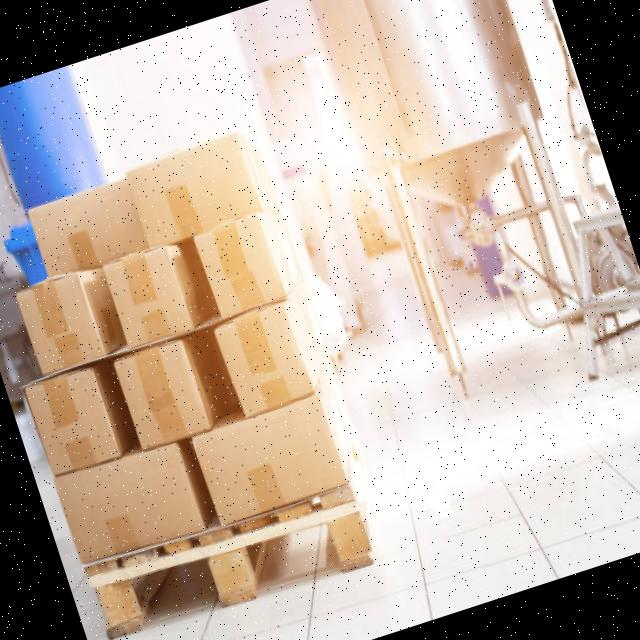Wooden-Pallets: (81, 480, 377, 640)
